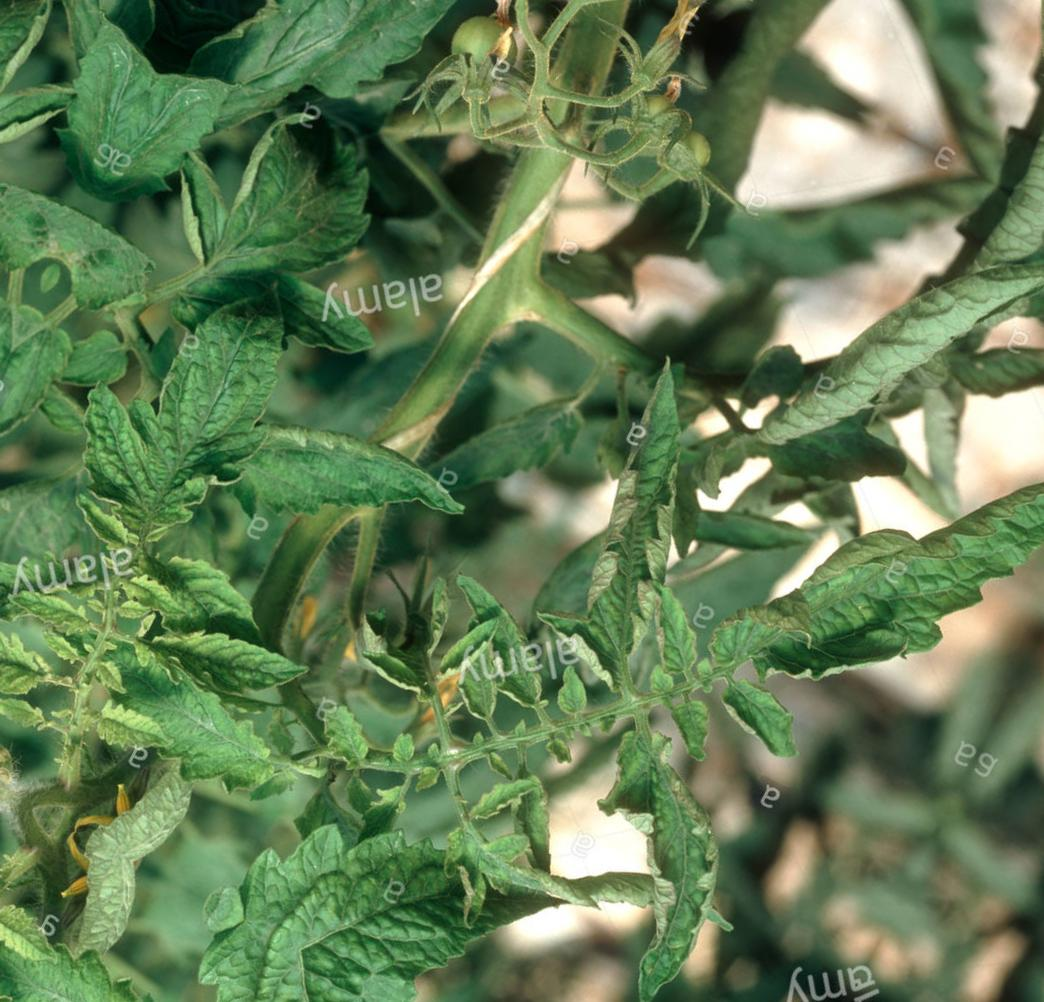Tomato leaf yellow virus: (673, 321, 1044, 798), (127, 697, 538, 1002), (38, 227, 327, 567), (0, 567, 77, 732)
